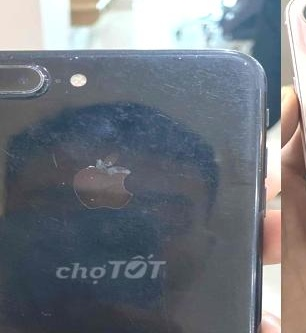scratch: (0, 48, 258, 97), (0, 138, 75, 189), (81, 151, 139, 203)
